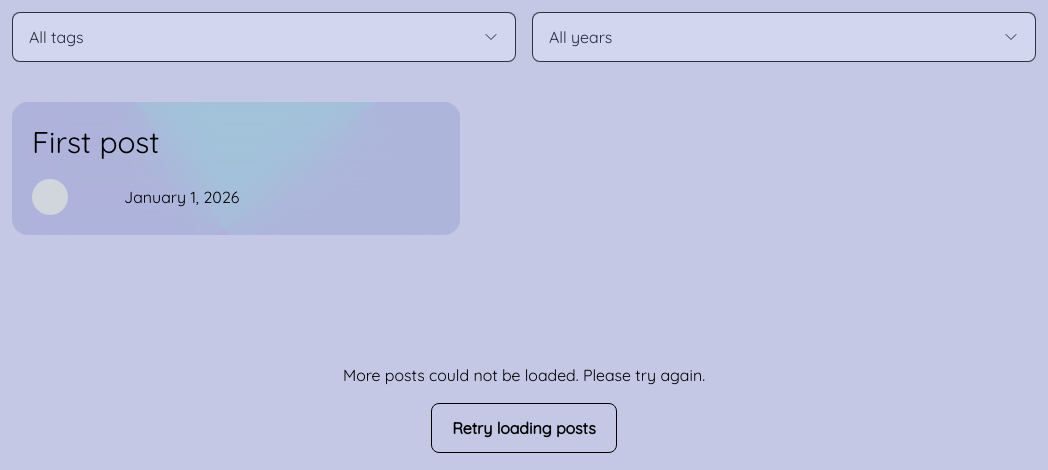
Test: category post lazy loading › offers a retry if loading a page fails
Check: the message "More posts could not be loaded. Please try again." is shown, box [343, 365, 705, 385]
Click the button "Retry loading posts": (524, 428) [431, 403, 617, 453]
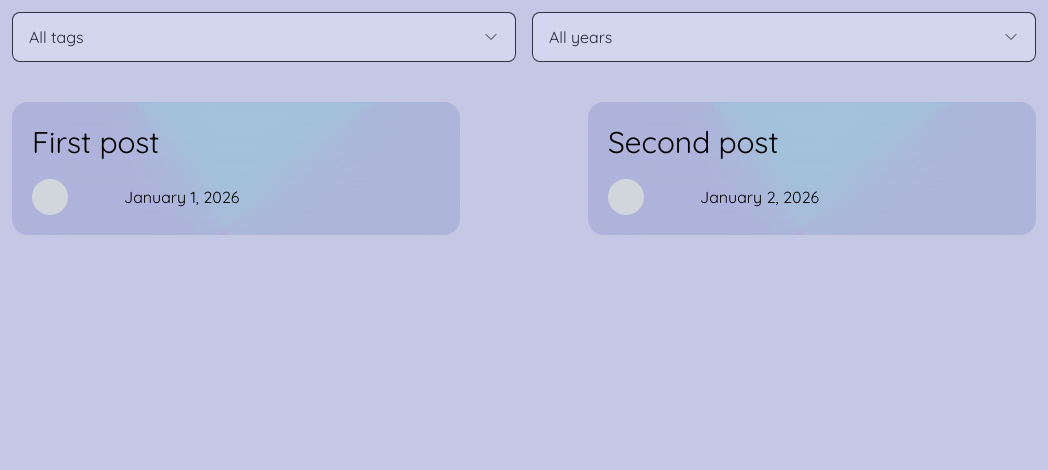
Check: the link "Second post" is shown, box [608, 123, 779, 161]
